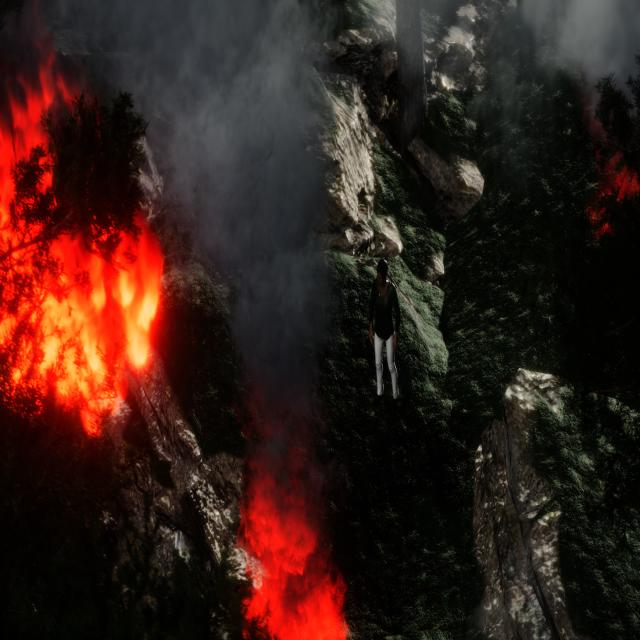Human: (366, 259, 409, 428)
